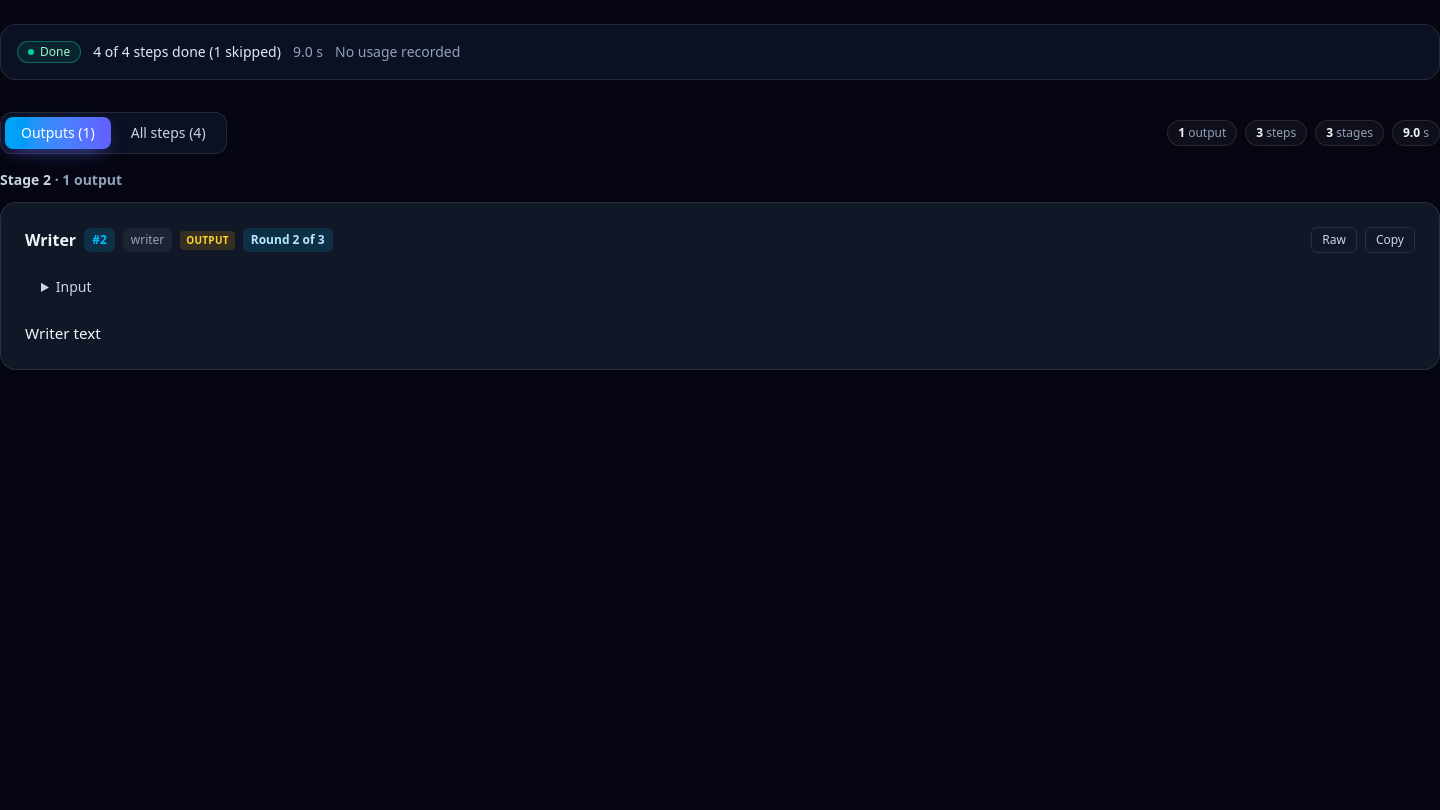
Test case: LiveRun: review rounds › tells what the reviewer’s last answer led to: one time and then approved
What coordinates should you click on to do the following:
click the tab "All steps (4)"
I would click on:
 (168, 133)
Its box is top-left (115, 117), bottom-right (222, 149).
(page scrolled)
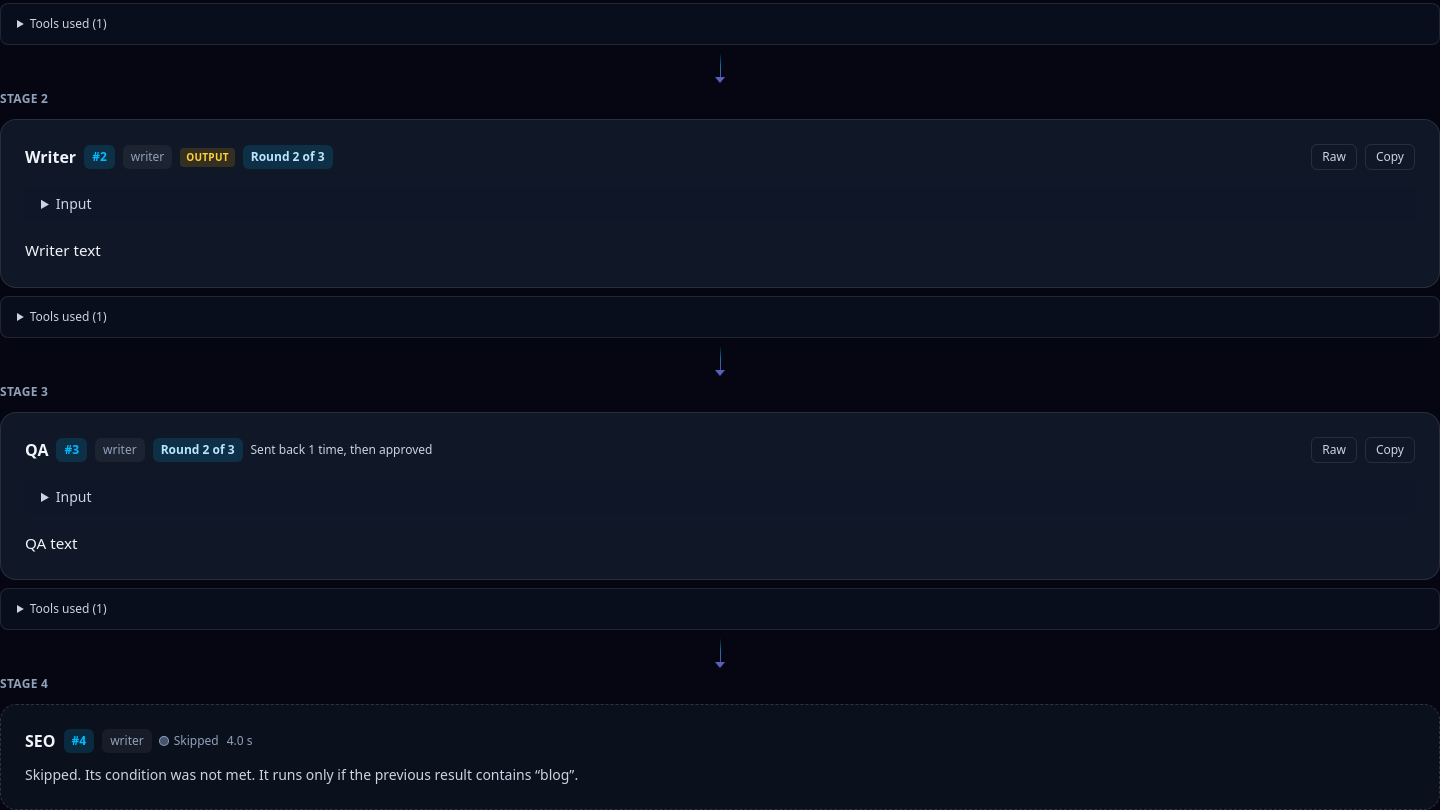
Expected: the text "Sent back 1 time, then approved" is shown, top-left (250, 442), bottom-right (432, 458)
